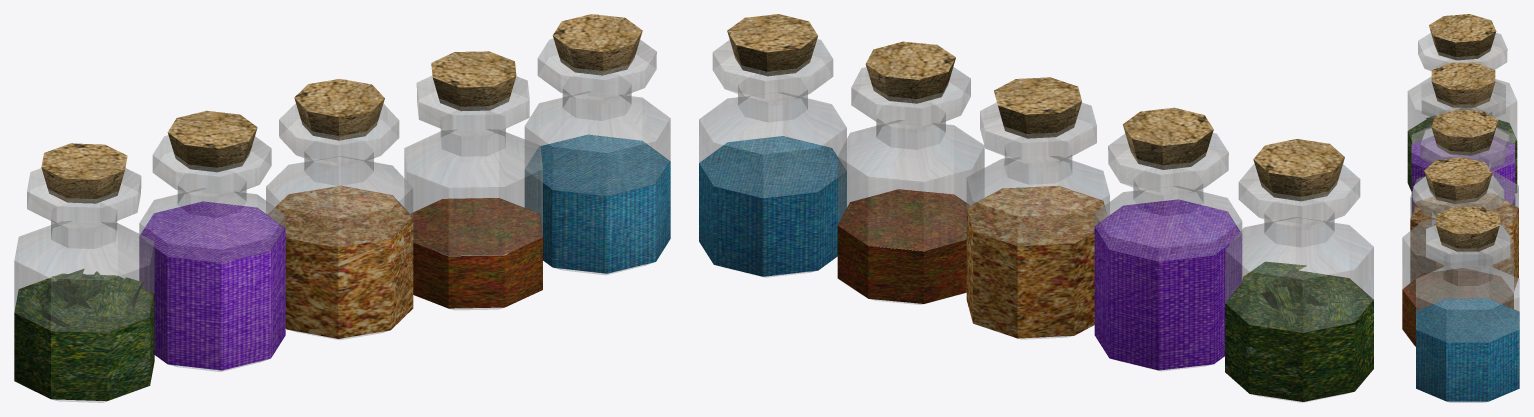
The model's file is mm9_deco_shelfitem05.glb.
The picture shows the model from 3 angles, left to right: view 1: azimuth 30°, elevation 25°; view 2: azimuth 150°, elevation 25°; view 3: azimuth 270°, elevation 25°; orthographic projection. The views are drawn at different scales.
Parts seen in each view (by area): view 1: Shelfitem05; view 2: Shelfitem05; view 3: Shelfitem05.
Boxes of the visible parts, left/top/right/bottom form: Shelfitem05: left=14, top=14, right=670, bottom=402; Shelfitem05: left=699, top=14, right=1373, bottom=402; Shelfitem05: left=1402, top=14, right=1519, bottom=402.
Bounding box in the file's own units: 1.11 × 0.363 × 0.2327.
Materials: 1 (1 with a texture image).
